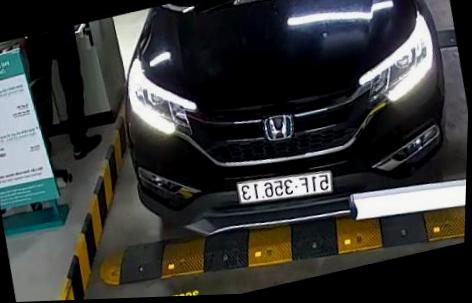License_Plate: (232, 165, 337, 209)
